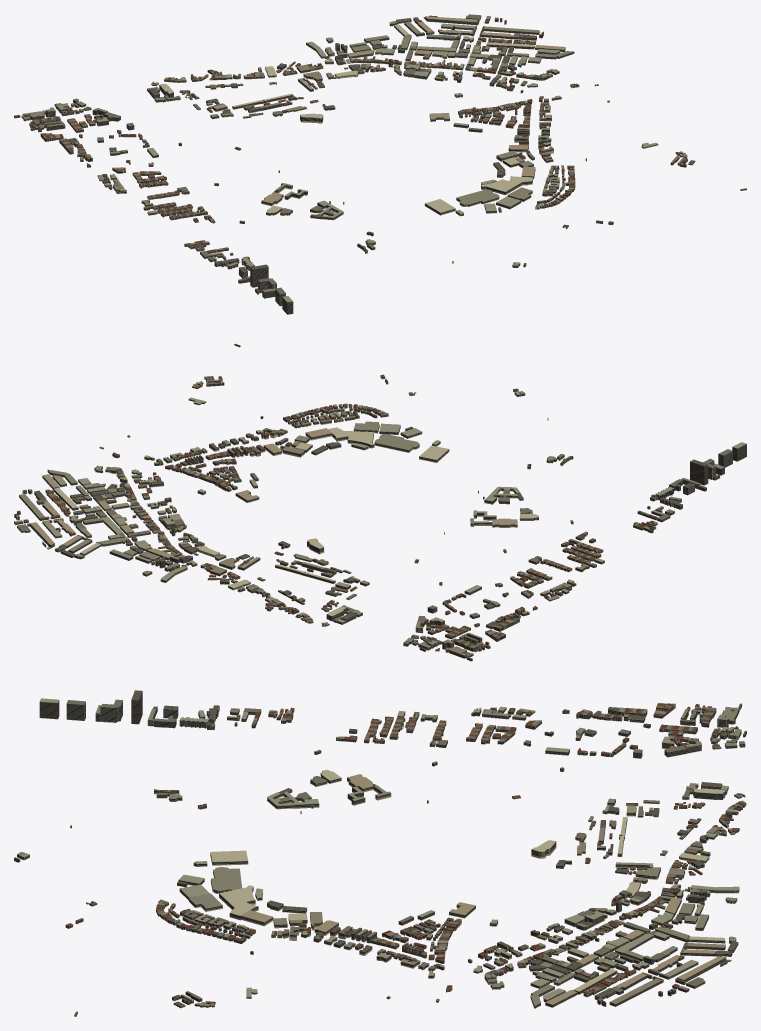
The model's file is city.glb.
3 views of the same model, one above another, from view 1: azimuth 30°, elevation 25°; view 2: azimuth 150°, elevation 25°; view 3: azimuth 270°, elevation 25° (orthographic). The views are drawn at different scales.
Visible parts, largest first — view 1: city_0, city_4, city_7, city_9, city_5, city_11, city_12, city_3, city_6, city_1, city_2, city_10 (+1 smaller); view 2: city_0, city_4, city_5, city_7, city_9, city_12, city_11, city_3, city_6, city_1, city_2, city_10 (+1 smaller); view 3: city_0, city_4, city_5, city_9, city_11, city_7, city_12, city_6, city_3, city_1, city_2, city_10 (+1 smaller).
Part boxes in pixels (left/top/right/bottom): city_0: left=14, top=16, right=746, bottom=314; city_4: left=22, top=16, right=686, bottom=291; city_7: left=28, top=18, right=746, bottom=314; city_9: left=14, top=17, right=680, bottom=306; city_5: left=22, top=17, right=687, bottom=298; city_11: left=22, top=15, right=687, bottom=293; city_12: left=37, top=17, right=694, bottom=282; city_3: left=32, top=14, right=679, bottom=293; city_6: left=58, top=23, right=657, bottom=302; city_1: left=30, top=17, right=746, bottom=280; city_2: left=14, top=15, right=687, bottom=291; city_10: left=159, top=24, right=534, bottom=213; city_0: left=14, top=344, right=746, bottom=660; city_4: left=14, top=379, right=723, bottom=656; city_5: left=28, top=382, right=724, bottom=658; city_7: left=14, top=344, right=746, bottom=656; city_9: left=17, top=375, right=732, bottom=661; city_12: left=15, top=377, right=699, bottom=650; city_11: left=23, top=376, right=715, bottom=658; city_3: left=16, top=382, right=732, bottom=648; city_6: left=43, top=391, right=746, bottom=644; city_1: left=15, top=343, right=707, bottom=649; city_2: left=17, top=374, right=719, bottom=658; city_10: left=54, top=427, right=538, bottom=616; city_0: left=14, top=691, right=746, bottom=1016; city_4: left=17, top=702, right=745, bottom=1005; city_5: left=17, top=703, right=744, bottom=1007; city_9: left=14, top=702, right=744, bottom=1008; city_11: left=20, top=700, right=739, bottom=1007; city_7: left=14, top=691, right=746, bottom=1016; city_12: left=86, top=703, right=745, bottom=1008; city_6: left=21, top=698, right=739, bottom=999; city_3: left=67, top=699, right=745, bottom=1000; city_1: left=14, top=690, right=746, bottom=1014; city_2: left=15, top=703, right=744, bottom=1002; city_10: left=210, top=769, right=725, bottom=991.
Bounding box in the file's own units: 1890 × 77.19 × 1897.
